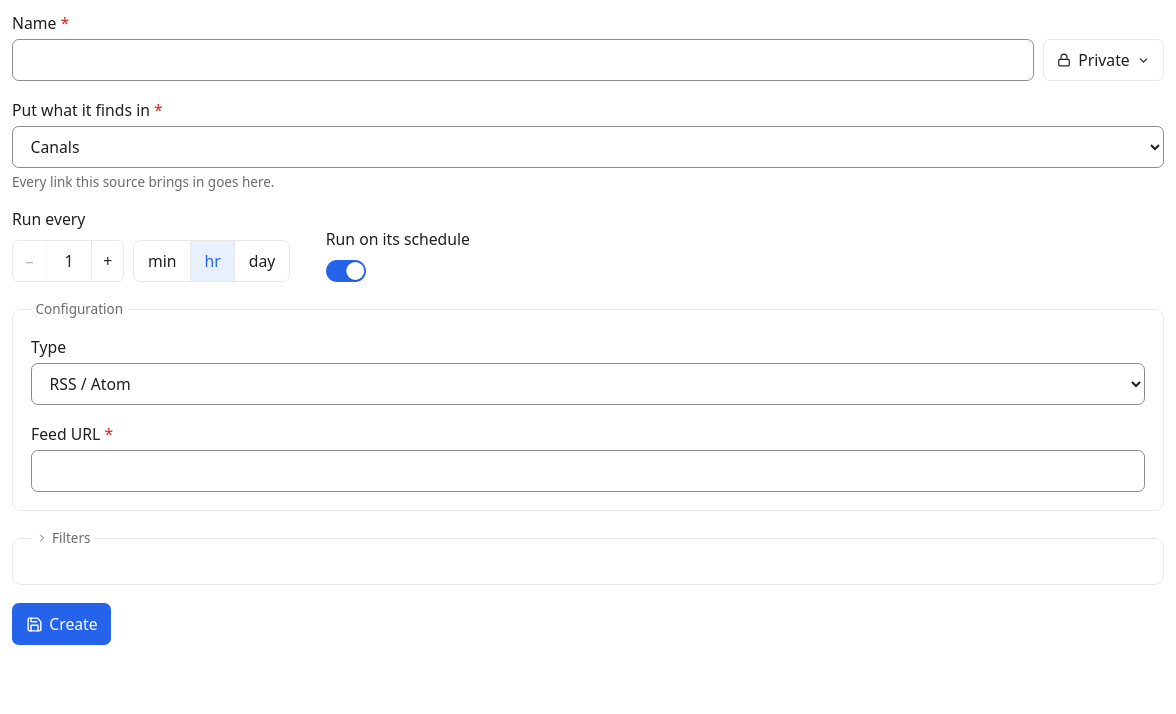
Test: SourceForm — the preview › warns when the source can be read but finds nothing
The width and height of the screenshot is (1176, 714).
Type "https://example.org/feed.xml" into the field labelled "Feed URL" at (588, 472), box [31,450,1145,492]
Wait 1600 ms
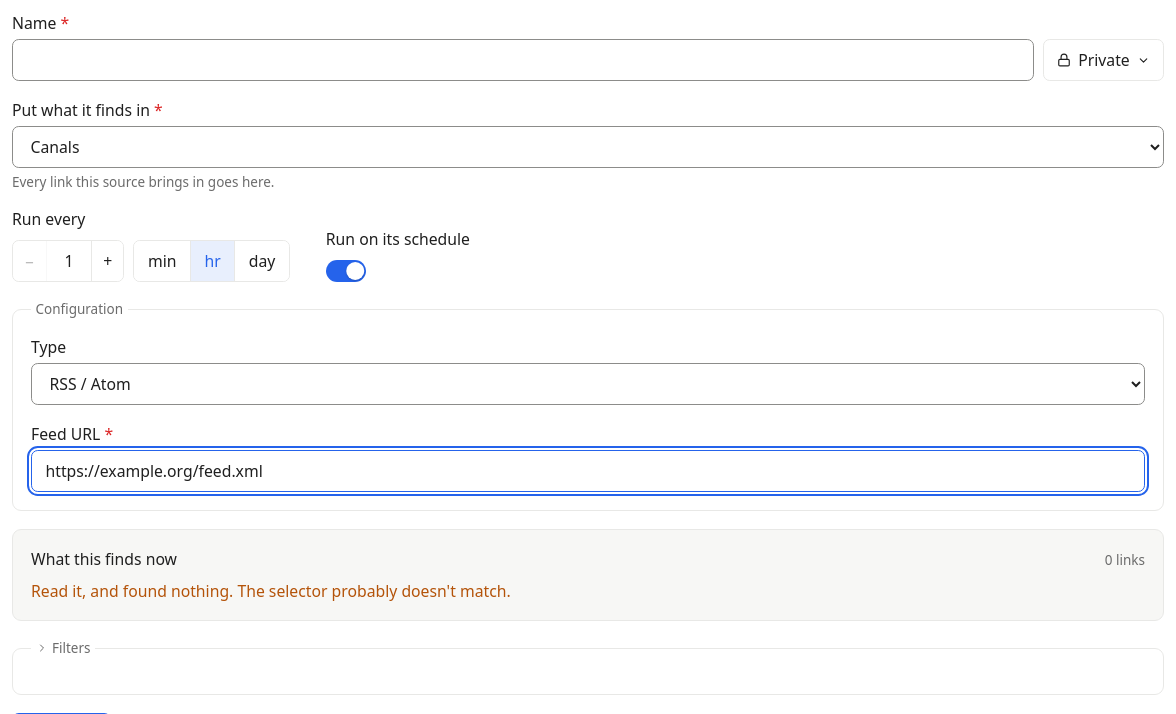
Expected: the text "Read it, and found nothing" is shown, [31,580,511,602]
